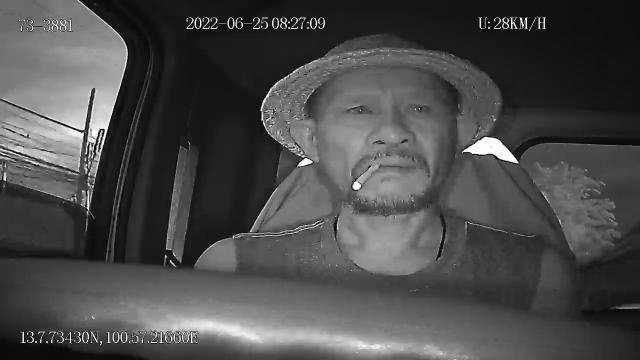SafeDriving: (398, 93, 436, 120), (340, 96, 381, 121)
Smoking: (351, 162, 382, 192)
